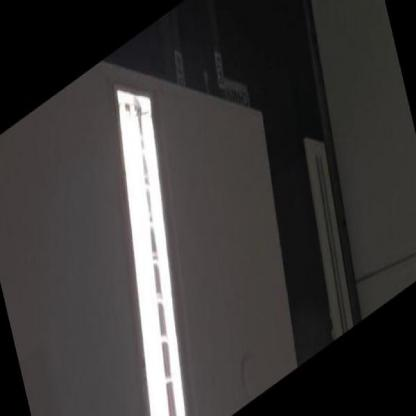light_on: (55, 55, 247, 415)
